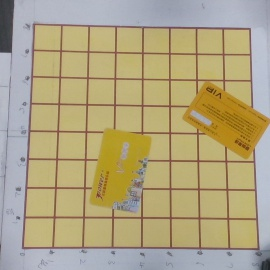card: (181, 80, 270, 160), (88, 128, 154, 213)
